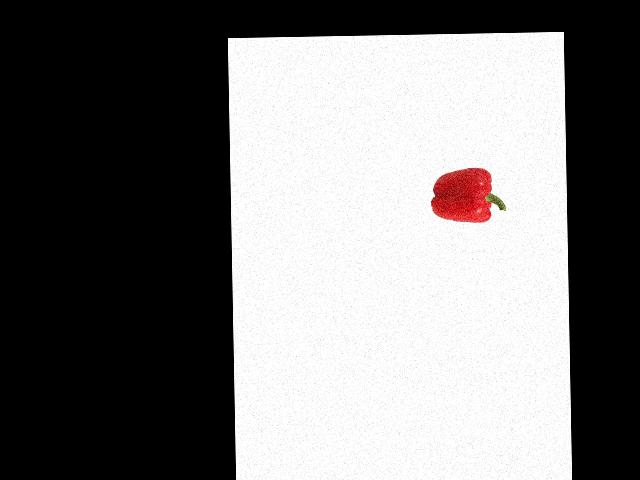bell_pepper: (429, 159, 505, 226)
